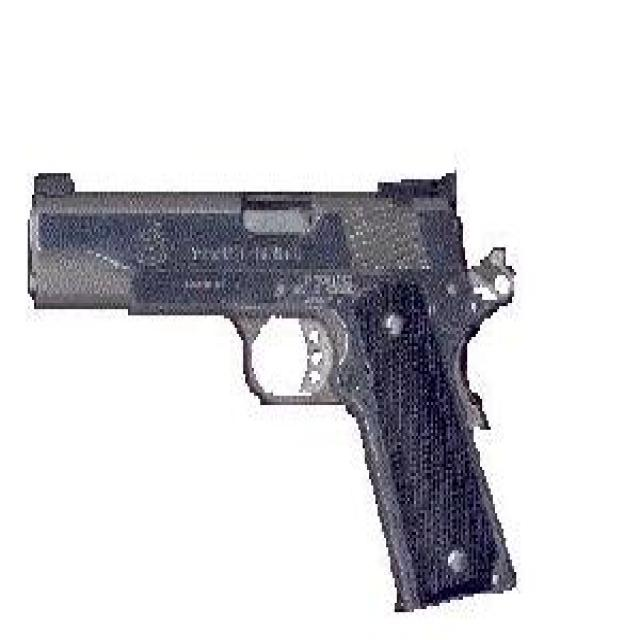pistol: (25, 167, 522, 600)
